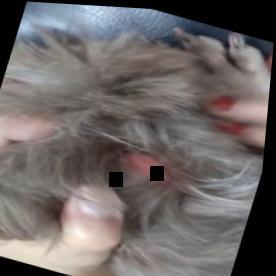skin_lesions: (112, 140, 181, 186)
